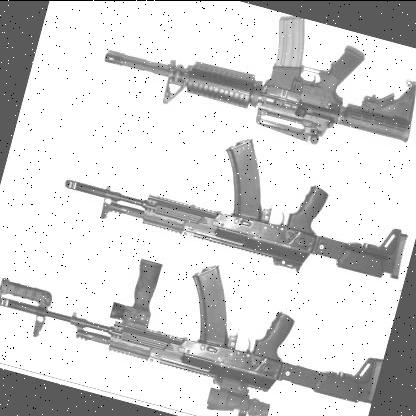rifle: (0, 207, 392, 416), (48, 99, 416, 316), (86, 0, 416, 169)
